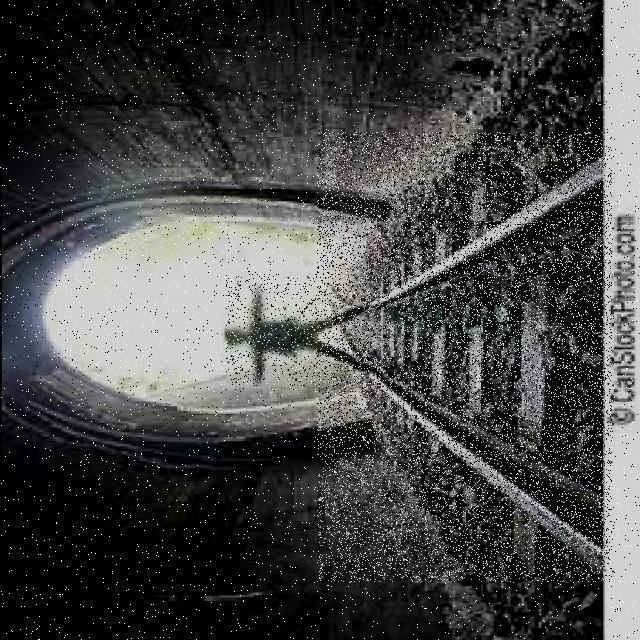rail: (318, 134, 613, 583)
